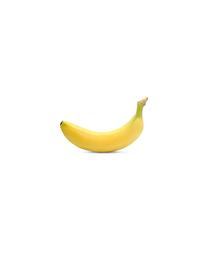banana: (59, 97, 150, 152)
